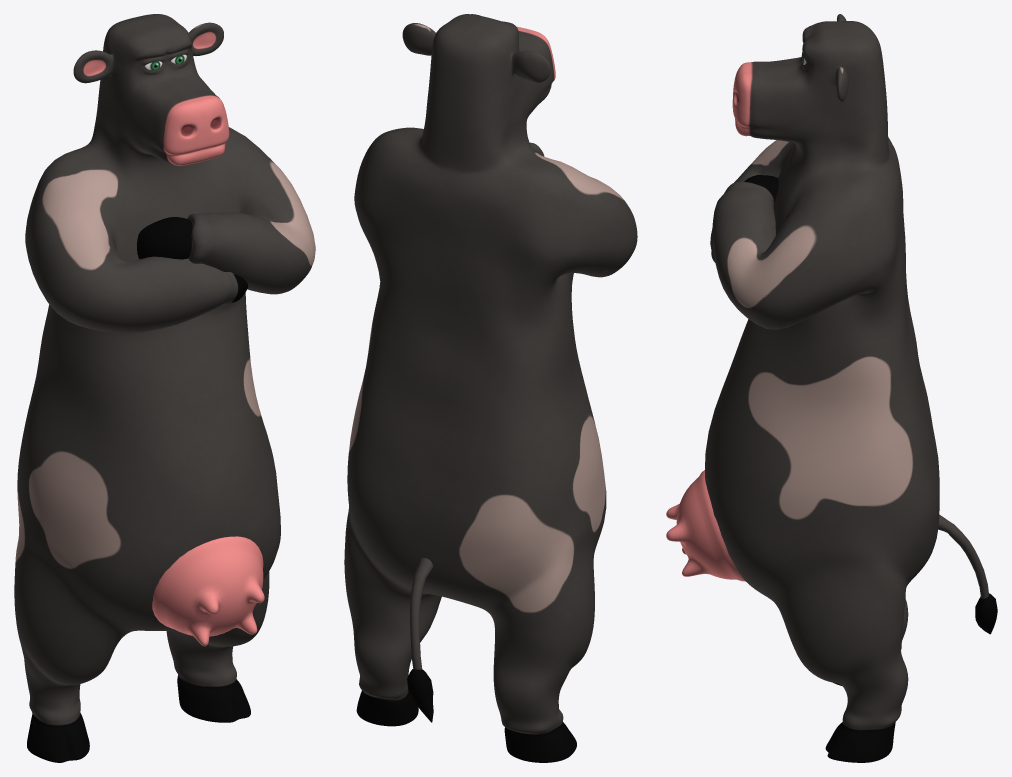
3 renders of one model, left to right at view 1: azimuth 30°, elevation 25°; view 2: azimuth 150°, elevation 25°; view 3: azimuth 270°, elevation 25°, orthographic. The views are drawn at different scales.
Visible parts, largest first — view 1: BENMesh; view 2: BENMesh; view 3: BENMesh.
Part boxes in pixels (box(x1,y1,x2,y2)): BENMesh: box(14, 14, 315, 762); BENMesh: box(344, 14, 637, 762); BENMesh: box(666, 14, 997, 762).
Bounding box in the file's own units: 0.0252 × 0.0658 × 0.0289.
Materials: 1 (1 with a texture image).
